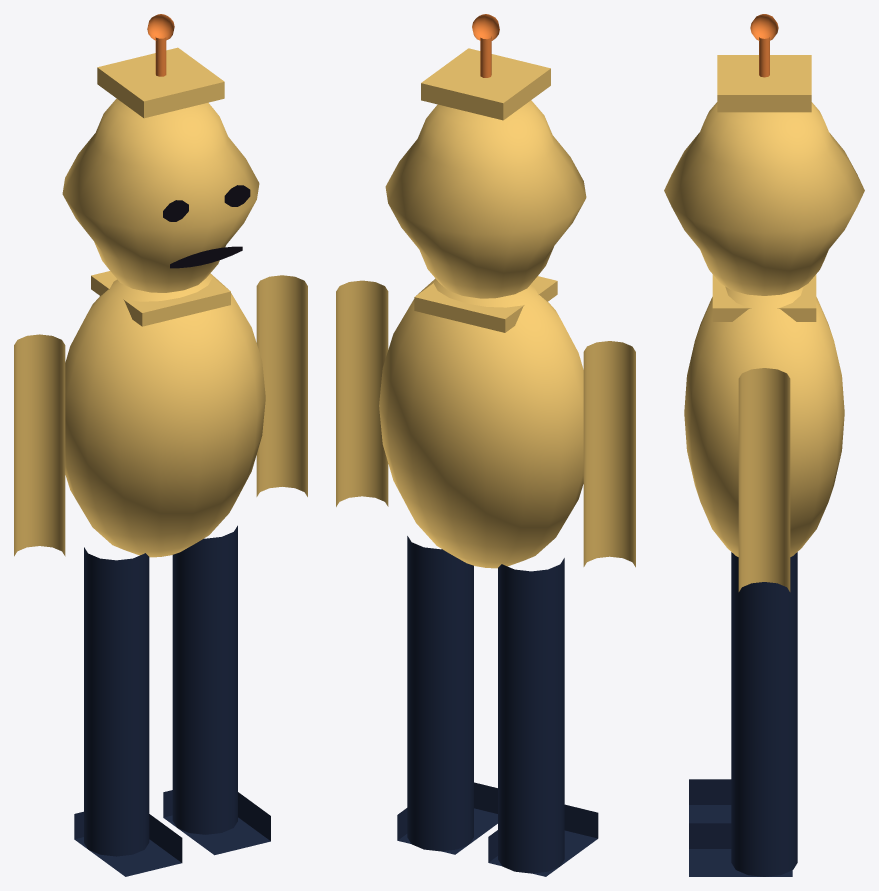
The model's file is agent.hark-lantern.glb.
3 views of the same model, side by side, from view 1: azimuth 30°, elevation 25°; view 2: azimuth 150°, elevation 25°; view 3: azimuth 270°, elevation 25° (orthographic). The views are drawn at different scales.
Visible parts, largest first — view 1: body, legs, head, face, antenna; view 2: body, legs, head, antenna; view 3: body, head, legs, antenna.
Boxes of the visible parts, x1,y1,x2,y2 form: body: (14,273,307,557); legs: (74,525,270,876); head: (62,47,259,326); face: (163,185,250,268); antenna: (147,14,174,76); body: (336,278,635,568); legs: (397,536,598,876); head: (385,48,586,332); antenna: (472,14,499,77); body: (684,286,844,591); head: (664,55,864,321); legs: (689,552,797,876); antenna: (750,14,778,77).
Bounding box in the file's own units: 0.7138 × 1.94 × 0.4279.
